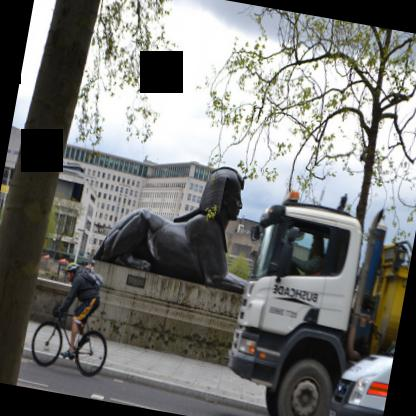backpack: (79, 267, 103, 289)
